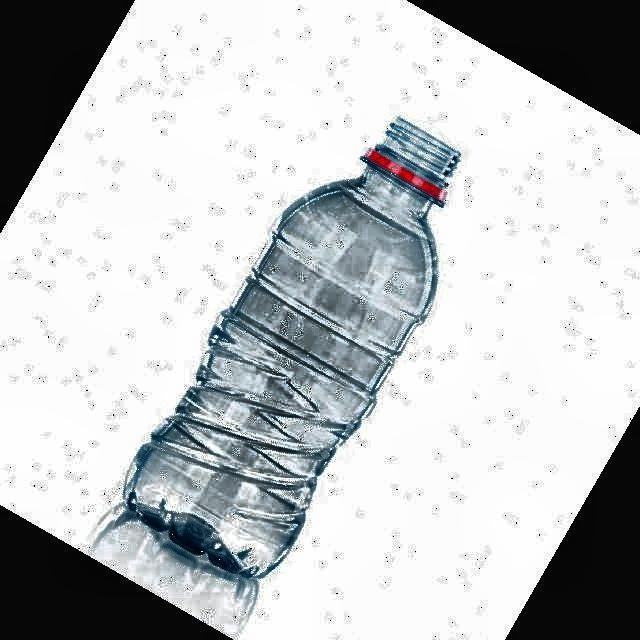plastic: (125, 118, 459, 578)
